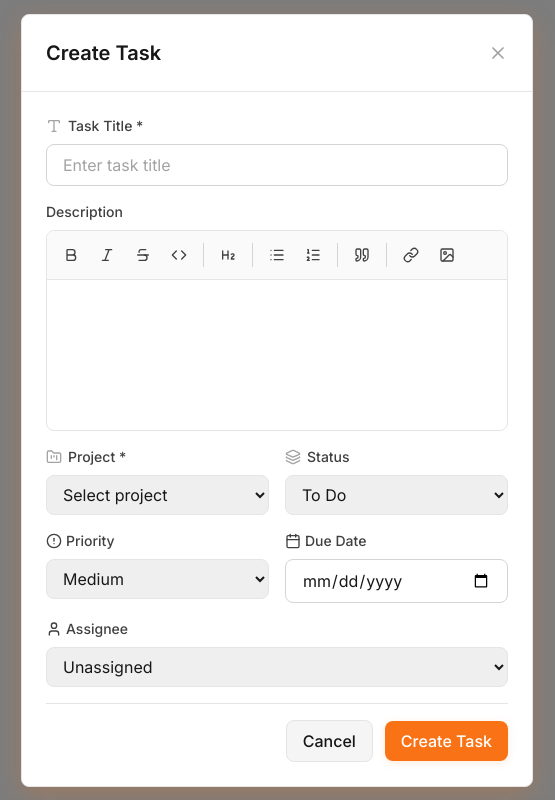
Test: TaskModal › Create Mode › should show loading state during save
Type "New Task" into the field labelled "Task Title *" at (277, 164), box [46,144,508,186]
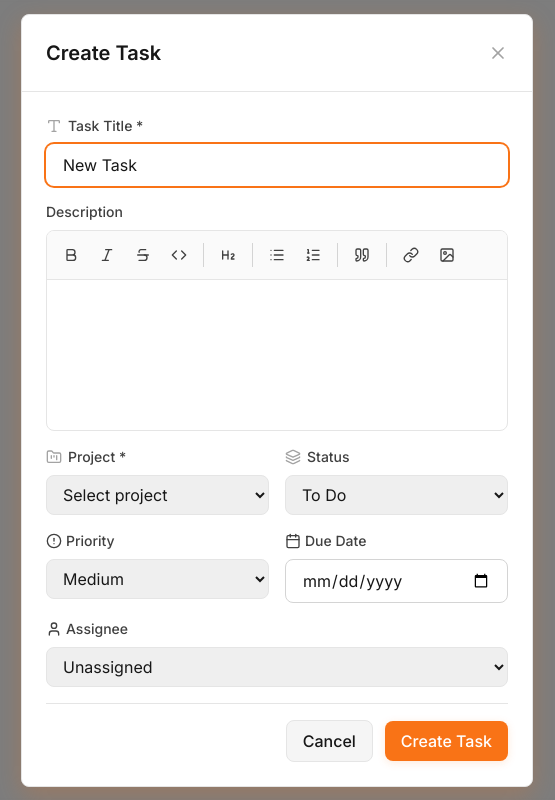
Select "Project Alpha" in the dropdown labelled "Project *" at (158, 494), box [46,474,269,514]
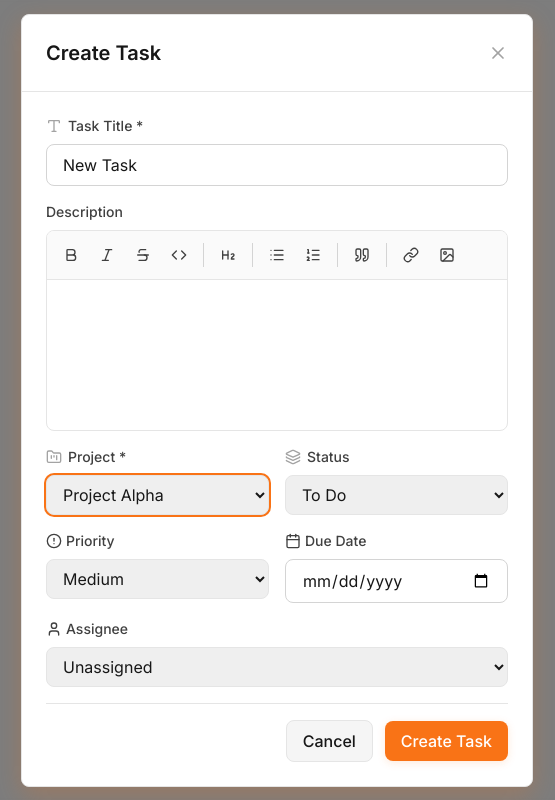
Click the button "Create Task" at (446, 740), box [385,720,508,760]
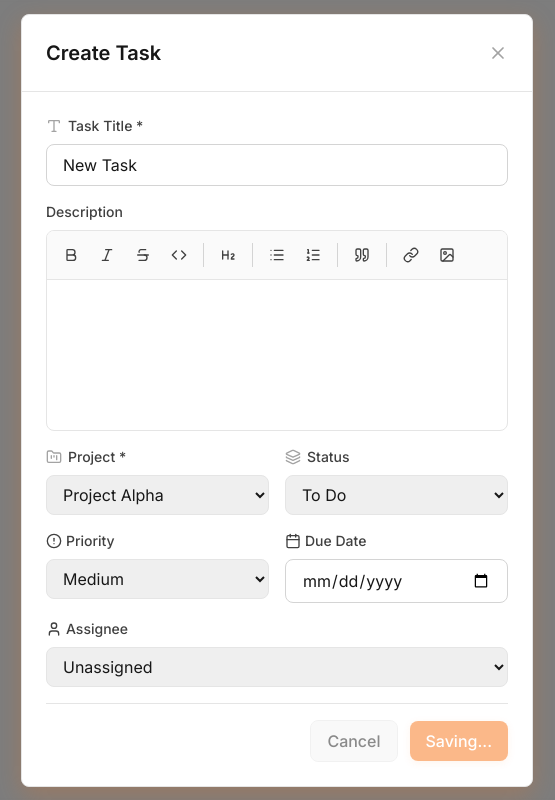
expect the button "Saving..." is disabled: met, box [410,720,508,760]
expect the button "Cancel" is disabled: met, box [310,720,398,762]
